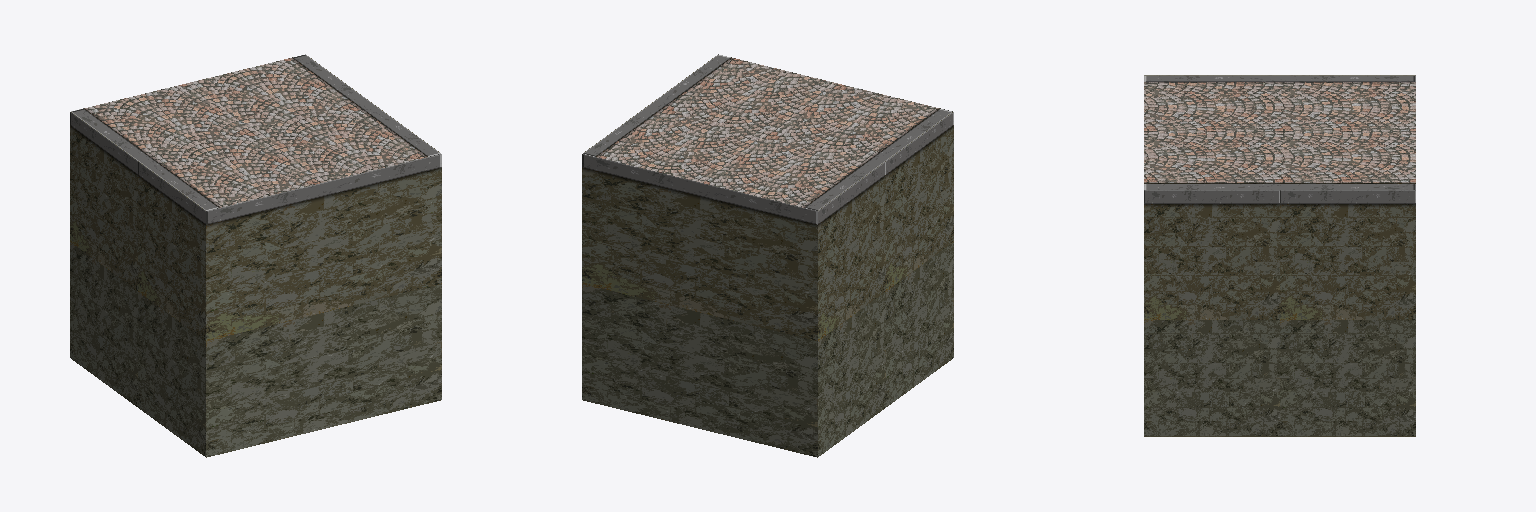
The picture shows the model from 3 angles: view 1: azimuth 30°, elevation 25°; view 2: azimuth 150°, elevation 25°; view 3: azimuth 270°, elevation 25°; orthographic projection.
Parts seen in each view (by area): view 1: Mesh1 Block_4_4_Endcap_L1 Model; view 2: Mesh1 Block_4_4_Endcap_L1 Model; view 3: Mesh1 Block_4_4_Endcap_L1 Model.
Part boxes in pixels (bbox=[...]): Mesh1 Block_4_4_Endcap_L1 Model: bbox=[70, 54, 441, 457]; Mesh1 Block_4_4_Endcap_L1 Model: bbox=[582, 54, 953, 457]; Mesh1 Block_4_4_Endcap_L1 Model: bbox=[1144, 75, 1415, 436].
Size of the model in its own units: 1 by 1 by 1.
2 materials, 2 textured.